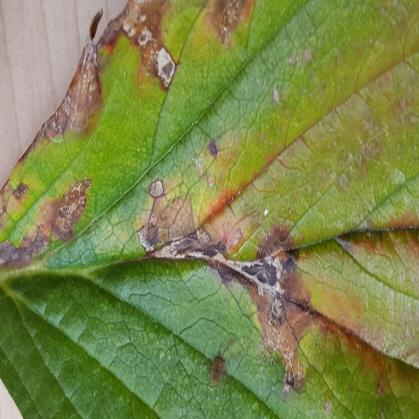Angular Leafspot: (0, 0, 418, 418)
